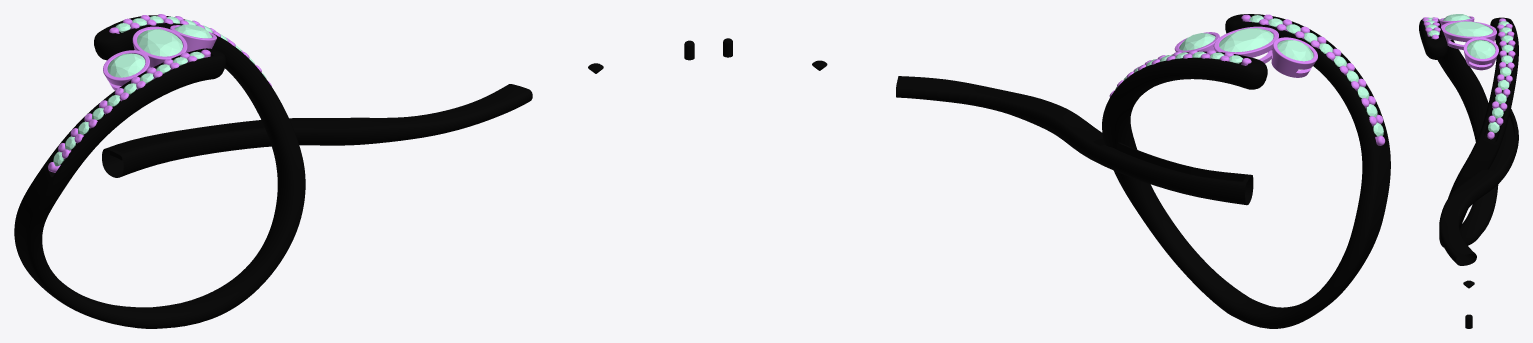
3 views of the same model, side by side, from view 1: azimuth 30°, elevation 25°; view 2: azimuth 150°, elevation 25°; view 3: azimuth 270°, elevation 25° (orthographic). The views are drawn at different scales.
Parts seen in each view (by area): view 1: Anello Bypass.3dm, Ovale, Brillante; view 2: Anello Bypass.3dm, Ovale, Brillante; view 3: Anello Bypass.3dm, Brillante (×7), Ovale.
Boxes of the visible parts, x1=… form: Anello Bypass.3dm: x1=14, y1=14, x2=694, y2=328; Ovale: x1=137, y1=29, x2=182, y2=56; Brillante: x1=107, y1=53, x2=145, y2=77; Anello Bypass.3dm: x1=723, y1=14, x2=1390, y2=328; Ovale: x1=1219, y1=28, x2=1273, y2=52; Brillante: x1=1277, y1=39, x2=1313, y2=61; Anello Bypass.3dm: x1=1419, y1=16, x2=1518, y2=328; Brillante (×7): x1=1443, y1=14, x2=1511, y2=133; Ovale: x1=1445, y1=21, x2=1492, y2=42.
Bounding box in the file's own units: 6.63 × 2.71 × 1.16.
